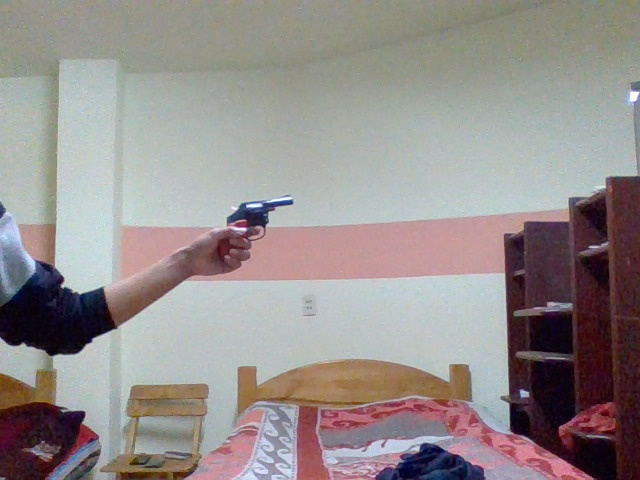pistola: (213, 188, 306, 263)
